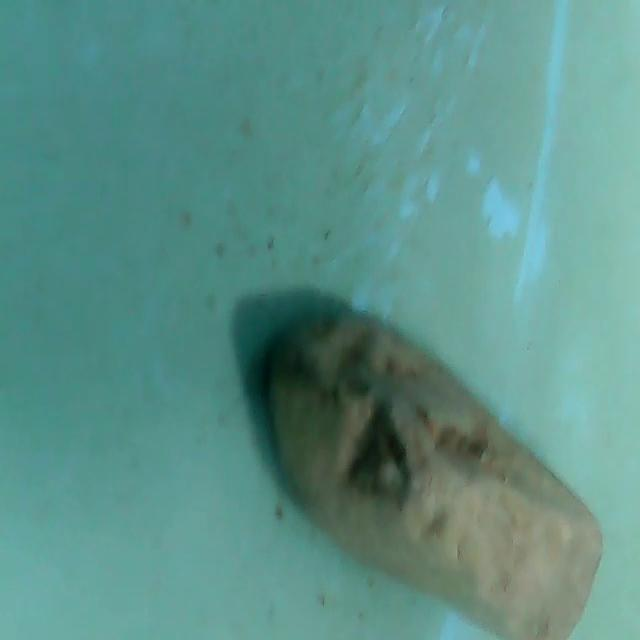rock: (254, 294, 605, 640)
